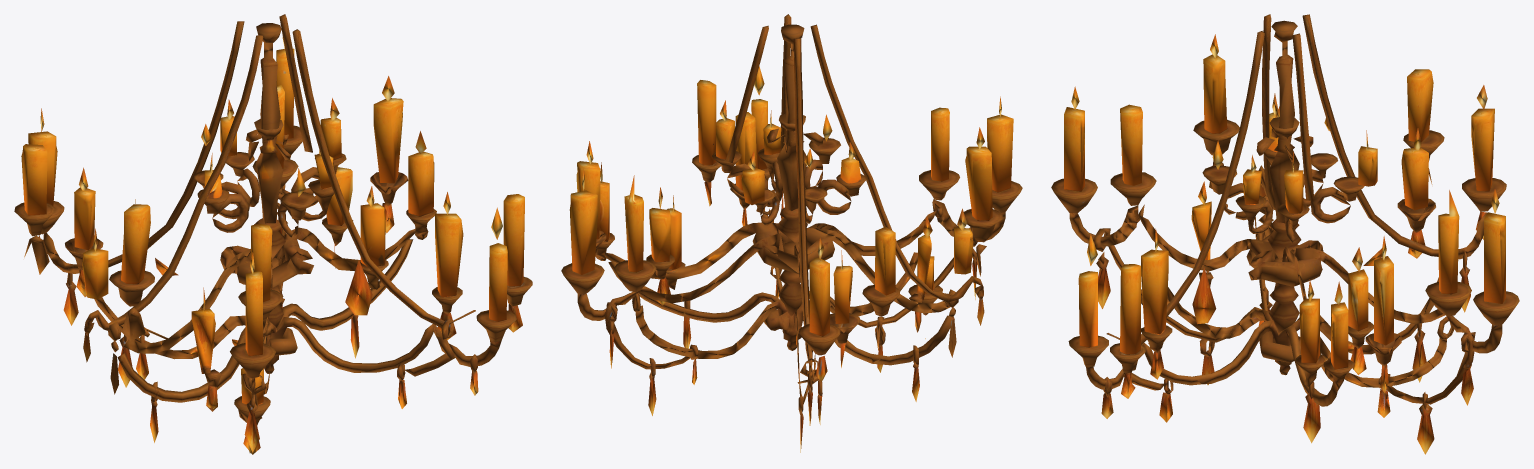
The model's file is tripo_convert_afde5560-a6c4-475a-9d40-507e64c54b70.fbx.
3 views of the same model, side by side, from view 1: azimuth 30°, elevation 25°; view 2: azimuth 150°, elevation 25°; view 3: azimuth 270°, elevation 25° (orthographic). The views are drawn at different scales.
Visible parts, largest first — view 1: tripo_node_afde5560; view 2: tripo_node_afde5560; view 3: tripo_node_afde5560.
Part boxes in pixels (left/top/right/bottom): tripo_node_afde5560: left=14, top=14, right=532, bottom=454; tripo_node_afde5560: left=561, top=14, right=1022, bottom=452; tripo_node_afde5560: left=1051, top=14, right=1519, bottom=454.
Size of the model in its own units: 0.9629 by 0.9316 by 0.998.
